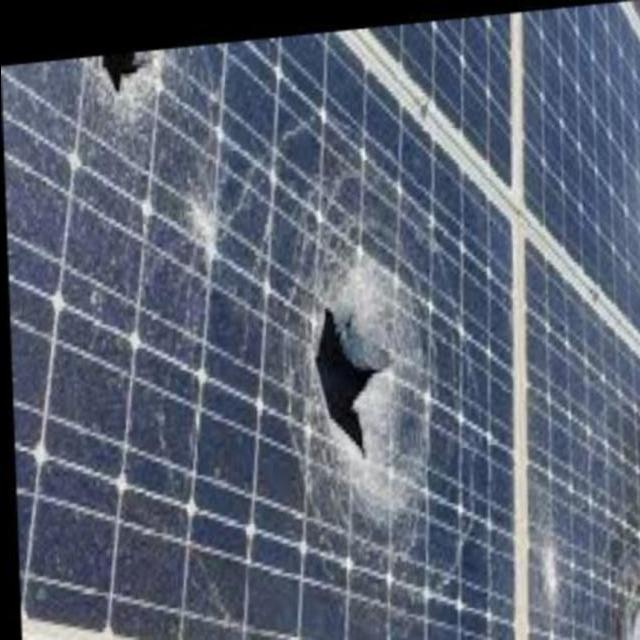cracked: (15, 34, 515, 638)
